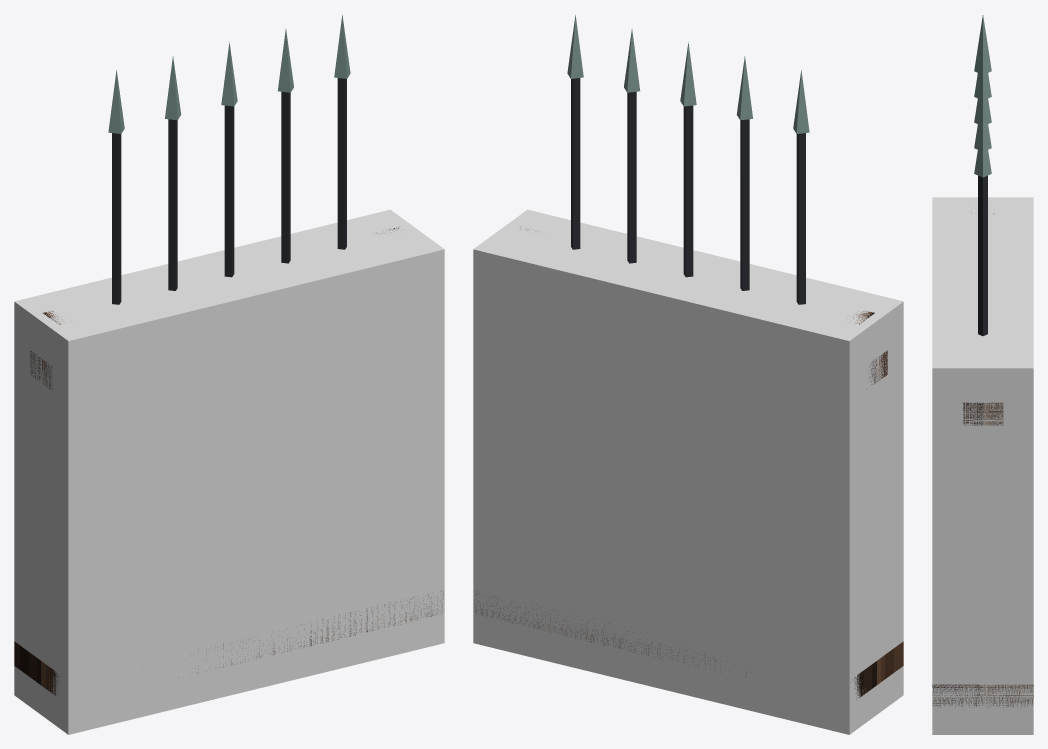
The model's file is JP_Prop_SpearRack_A.glb.
3 renders of one model, left to right at view 1: azimuth 30°, elevation 25°; view 2: azimuth 150°, elevation 25°; view 3: azimuth 270°, elevation 25°, orthographic. The views are drawn at different scales.
Parts seen in each view (by area): view 1: COL_JP_Prop_SpearRack_A, JP_Prop_SpearRack_A; view 2: COL_JP_Prop_SpearRack_A, JP_Prop_SpearRack_A; view 3: COL_JP_Prop_SpearRack_A, JP_Prop_SpearRack_A.
Part boxes in pixels (x1,y1,x2,y2): COL_JP_Prop_SpearRack_A: (14,209,444,734); JP_Prop_SpearRack_A: (14,15,443,695); COL_JP_Prop_SpearRack_A: (473,209,903,734); JP_Prop_SpearRack_A: (474,15,903,697); COL_JP_Prop_SpearRack_A: (932,197,1033,734); JP_Prop_SpearRack_A: (932,15,1033,707).
Size of the model in its own units: 1.6 by 2.55 by 0.4.
3 materials, 3 textured.
